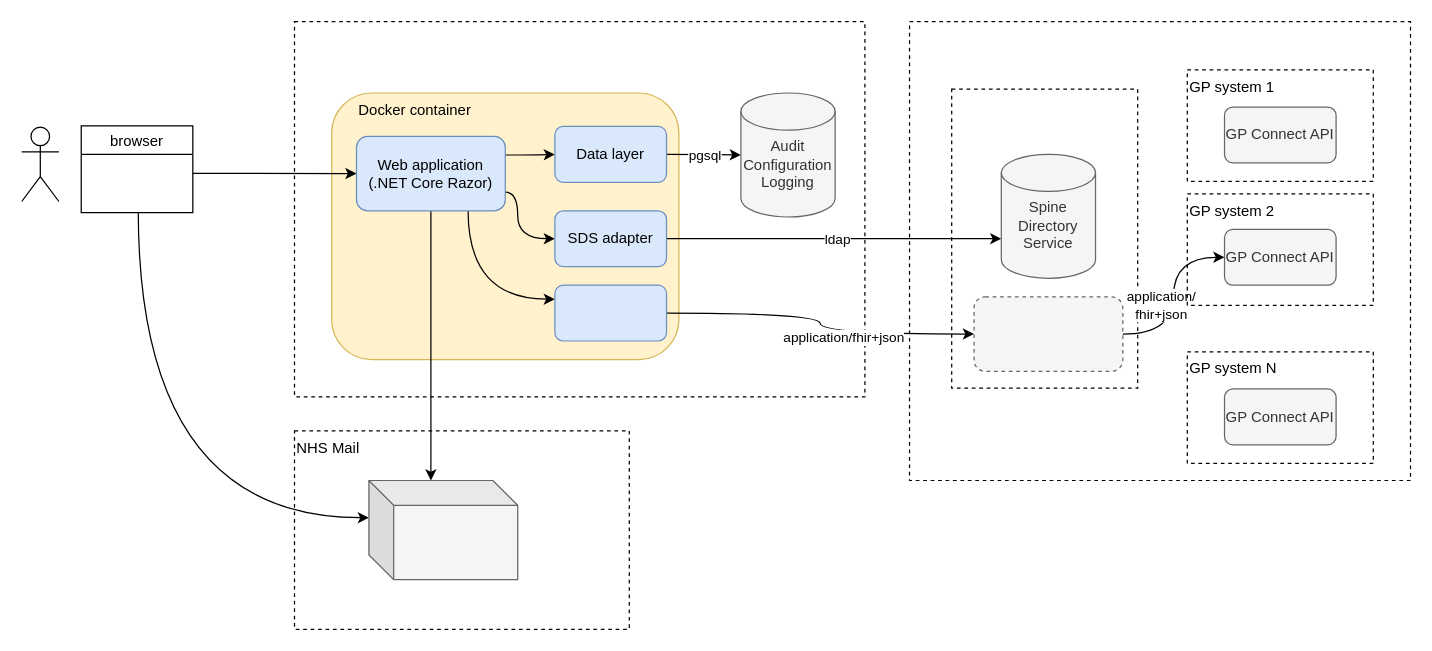
This 1432x651 diagram has some shape labels left out. The box of each missing label's shape, as (x1, y1, x2, y2) in pixels:
Appointment checker application running in AWS: (293, 20, 865, 397)
GPC API adapter: (554, 284, 666, 341)
N3 / HSCN: (908, 20, 1410, 480)
OAuth server: (368, 479, 518, 580)
Spine environment: (950, 88, 1138, 388)
Spine Secure Proxy (SSP): (973, 296, 1123, 371)
User: (20, 126, 59, 202)
